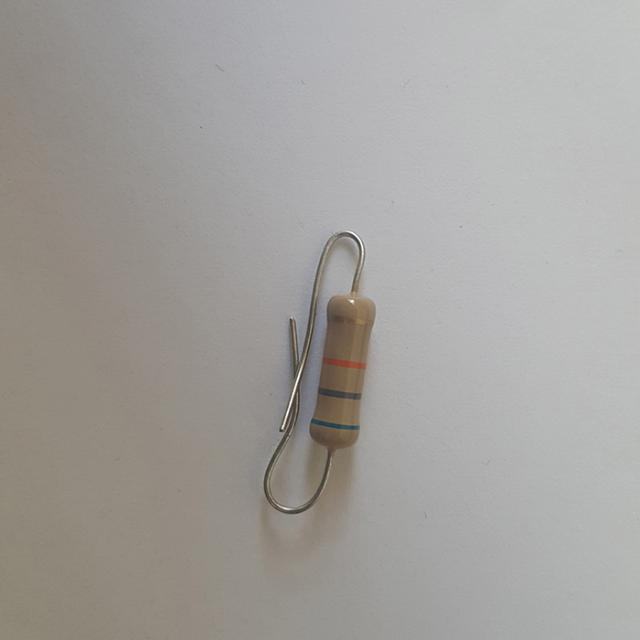blue: (312, 421, 361, 430)
gold: (330, 315, 371, 325)
grey: (319, 388, 360, 399)
orange: (325, 358, 366, 368)
resistor: (283, 272, 400, 473)
